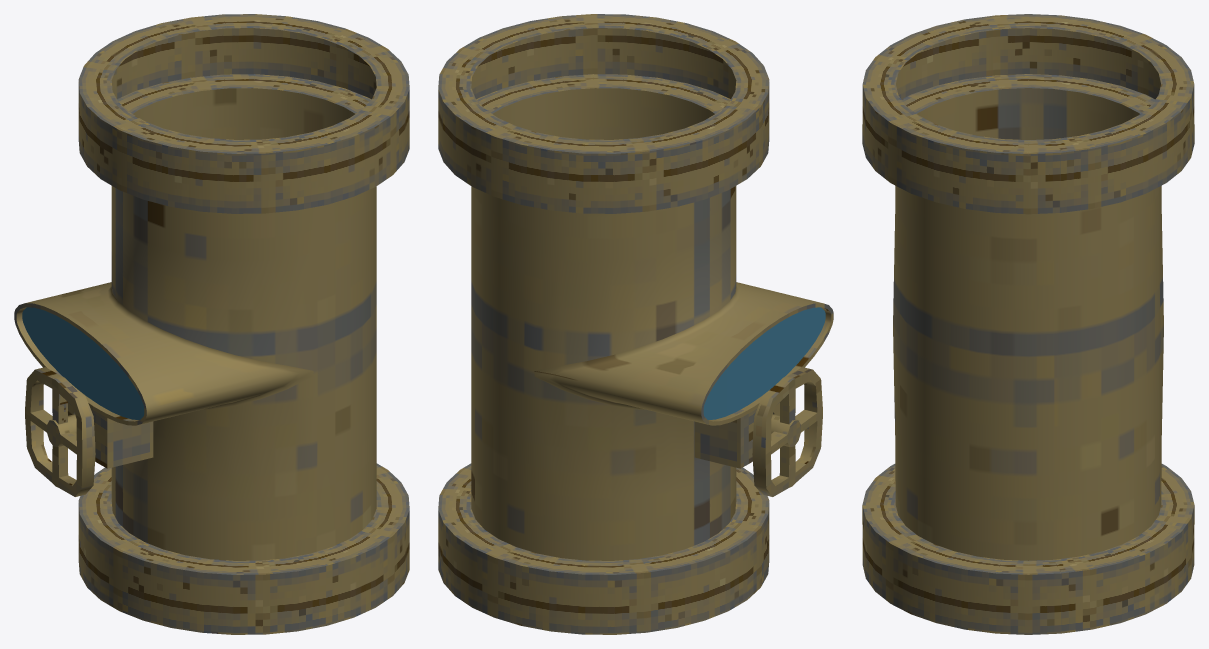
File: STRAIGHT_PIPE_VALVE.fbx
3 views of the same model, side by side, from view 1: azimuth 30°, elevation 25°; view 2: azimuth 150°, elevation 25°; view 3: azimuth 270°, elevation 25° (orthographic).
Parts seen in each view (by area): view 1: STRAIGHT.006; view 2: STRAIGHT.006; view 3: STRAIGHT.006.
Boxes of the visible parts, <box> form: STRAIGHT.006: <box>14,14,409,634</box>; STRAIGHT.006: <box>438,14,833,634</box>; STRAIGHT.006: <box>862,14,1194,634</box>.
Bounding box in the file's own units: 291 × 400 × 250.
